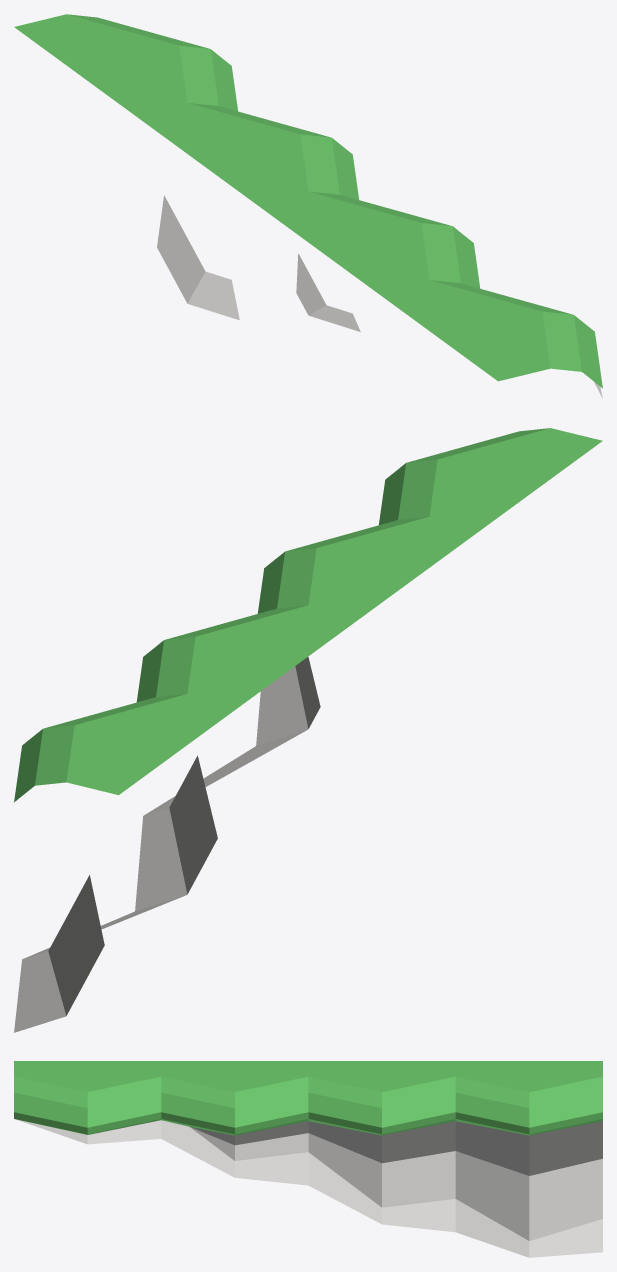
The model's file is Cliff_Terrain_Hill_Base_Top_Joined_Gentle.glb.
3 views of the same model, one above another, from view 1: azimuth 30°, elevation 25°; view 2: azimuth 150°, elevation 25°; view 3: azimuth 270°, elevation 25° (orthographic). The views are drawn at different scales.
Parts seen in each view (by area): view 1: Cliff_Terrain_Hill_Base_Top_Joined_Gentle; view 2: Cliff_Terrain_Hill_Base_Top_Joined_Gentle; view 3: Cliff_Terrain_Hill_Base_Top_Joined_Gentle.
Part boxes in pixels (x1=…): Cliff_Terrain_Hill_Base_Top_Joined_Gentle: x1=14, y1=14, x2=602, y2=398; Cliff_Terrain_Hill_Base_Top_Joined_Gentle: x1=14, y1=428, x2=602, y2=1032; Cliff_Terrain_Hill_Base_Top_Joined_Gentle: x1=14, y1=1061, x2=602, y2=1257.
Size of the model in its own units: 0.75 by 1.2 by 4.
